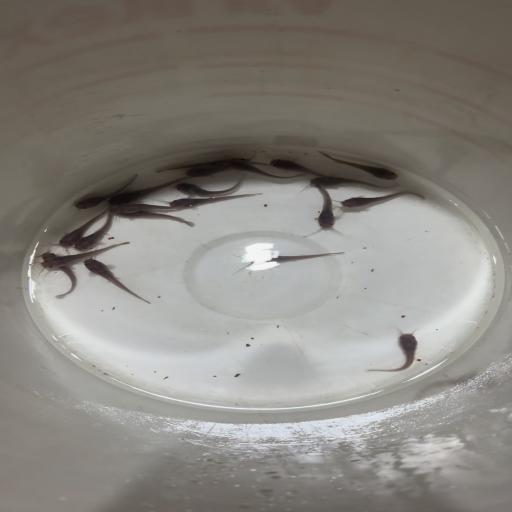lele: (228, 246, 346, 276), (82, 256, 151, 304), (314, 150, 405, 182), (36, 242, 130, 272), (366, 326, 424, 374), (108, 176, 187, 207), (70, 174, 138, 210), (36, 247, 78, 299), (54, 210, 107, 248), (336, 190, 429, 211), (308, 180, 343, 234), (166, 192, 264, 210), (74, 212, 116, 252), (152, 156, 252, 172), (303, 176, 402, 192), (228, 159, 302, 180), (172, 176, 246, 197), (266, 156, 340, 176), (118, 211, 195, 229), (108, 202, 188, 214), (184, 166, 230, 182)
